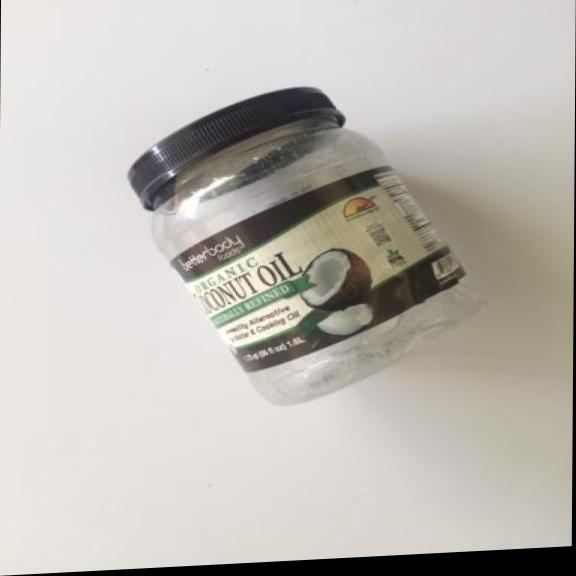Plastik: (118, 72, 499, 415)
